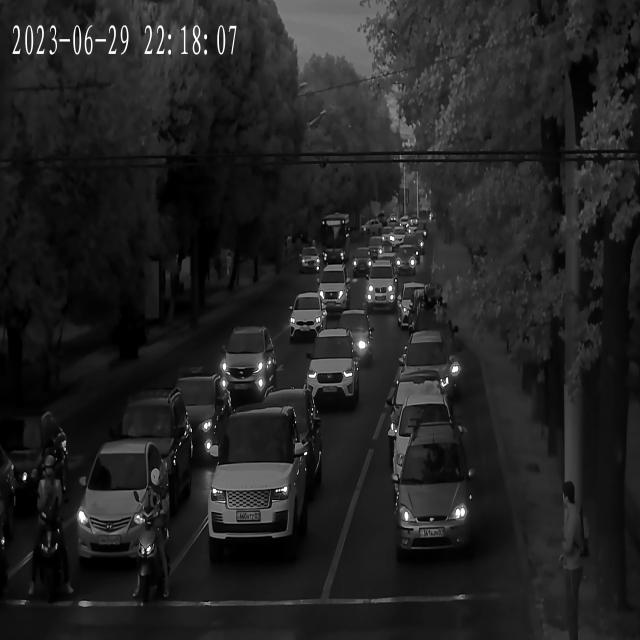Bus: (317, 212, 358, 264)
Car: (206, 407, 314, 554), (95, 389, 191, 515), (394, 427, 473, 561), (0, 408, 67, 511), (390, 395, 466, 472), (164, 378, 235, 450), (242, 390, 322, 451), (299, 330, 357, 407), (214, 328, 277, 398), (396, 334, 454, 401), (386, 380, 451, 433), (320, 314, 372, 370), (397, 282, 445, 328), (286, 292, 330, 338), (314, 267, 352, 310), (367, 263, 400, 289), (393, 249, 420, 274), (349, 252, 374, 275), (301, 250, 323, 272), (401, 237, 423, 256), (365, 238, 384, 255)
Motorcycle: (25, 451, 69, 596), (129, 487, 173, 606)
